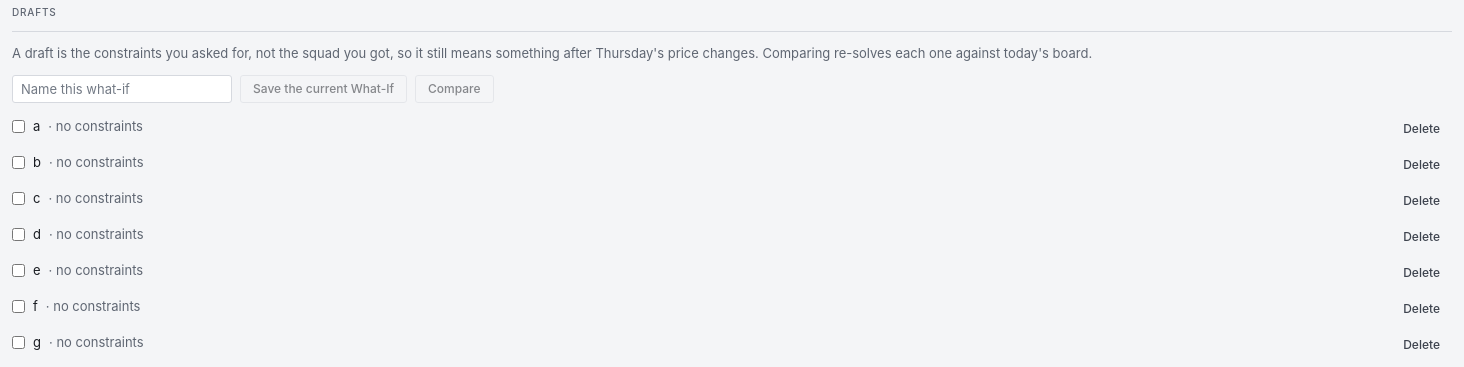
Scenario: DraftsTab › caps a comparison at six drafts
The width and height of the screenshot is (1464, 367).
Check: the text "a" is shown, box [33, 117, 40, 136]
What coordinates should you click on to do the following:
click the checkbox named "compare a"
I would click on:
 (18, 126)
Its box is [12, 120, 25, 133].
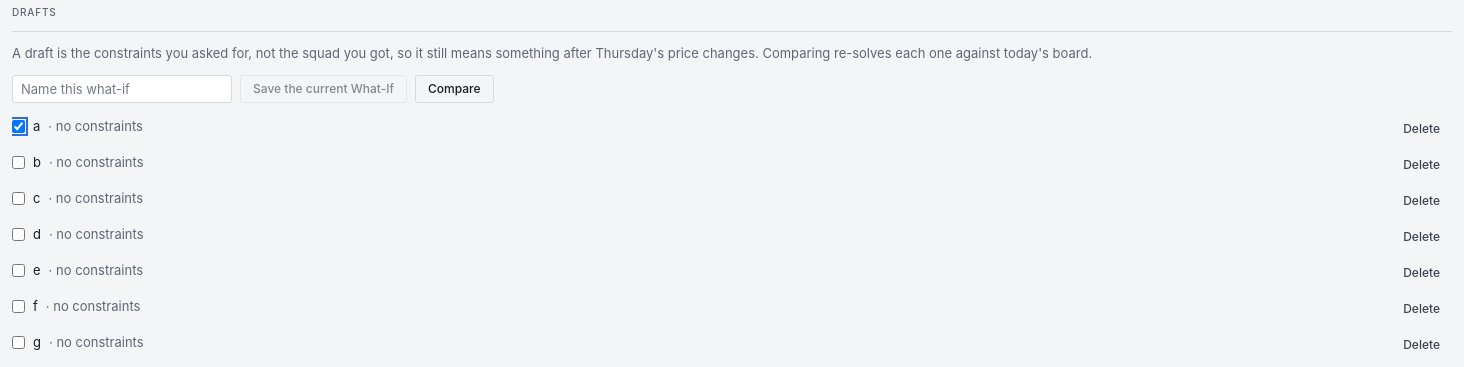
What coordinates should you click on to do the following:
click the checkbox labelled "b · no constraints"
I would click on:
 (18, 162)
Its box is [12, 156, 25, 169].
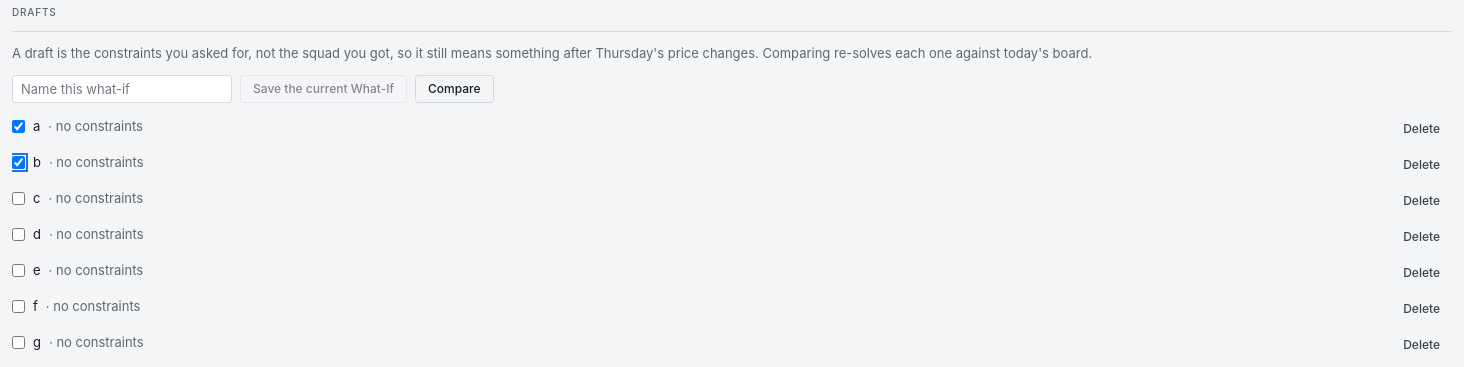
What coordinates should you click on to do the following:
click the checkbox named "compare c"
I would click on:
 (18, 198)
Its box is [12, 192, 25, 205].
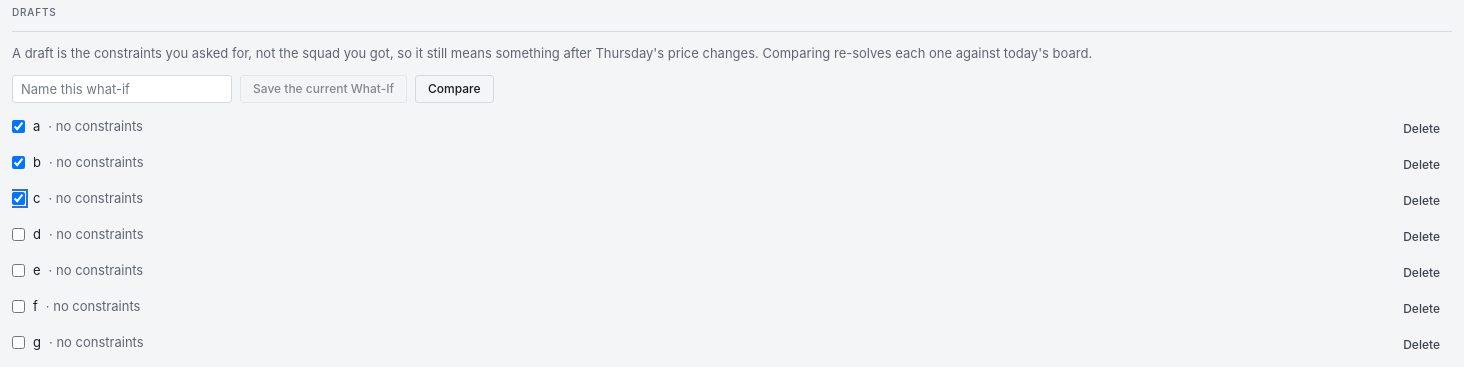
What coordinates should you click on to do the following:
click the checkbox labelled "d · no constraints"
I would click on:
 (18, 234)
Its box is [12, 228, 25, 241].
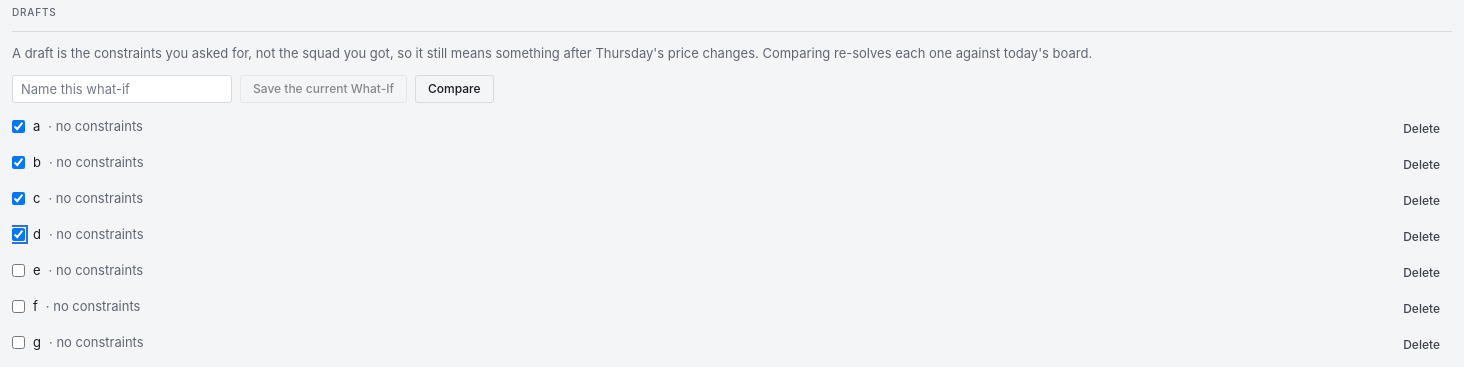
What coordinates should you click on to do the following:
click the checkbox named "compare e"
I would click on:
 (18, 270)
Its box is [12, 264, 25, 277].
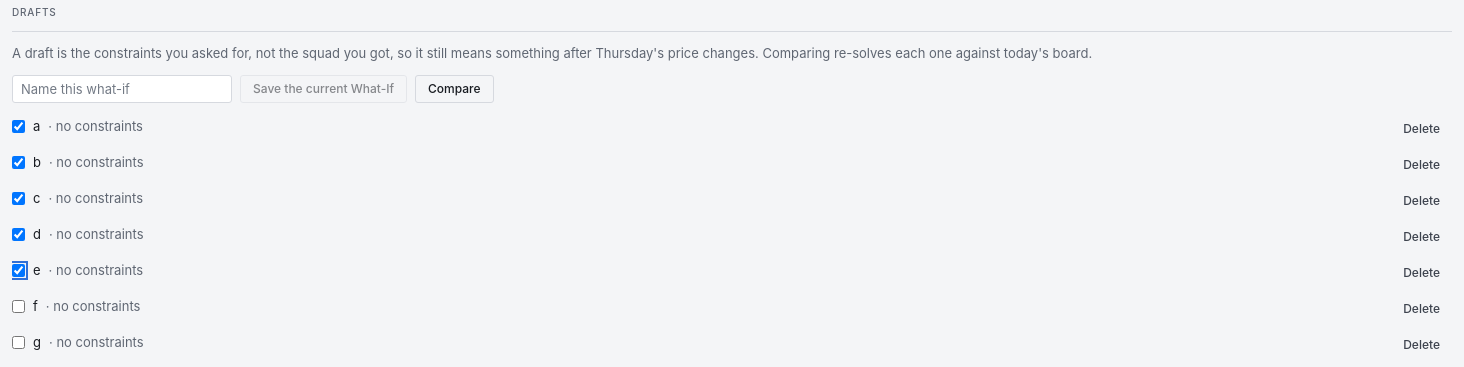
What coordinates should you click on to do the following:
click the checkbox named "compare f"
I would click on:
 (18, 306)
Its box is [12, 300, 25, 313].
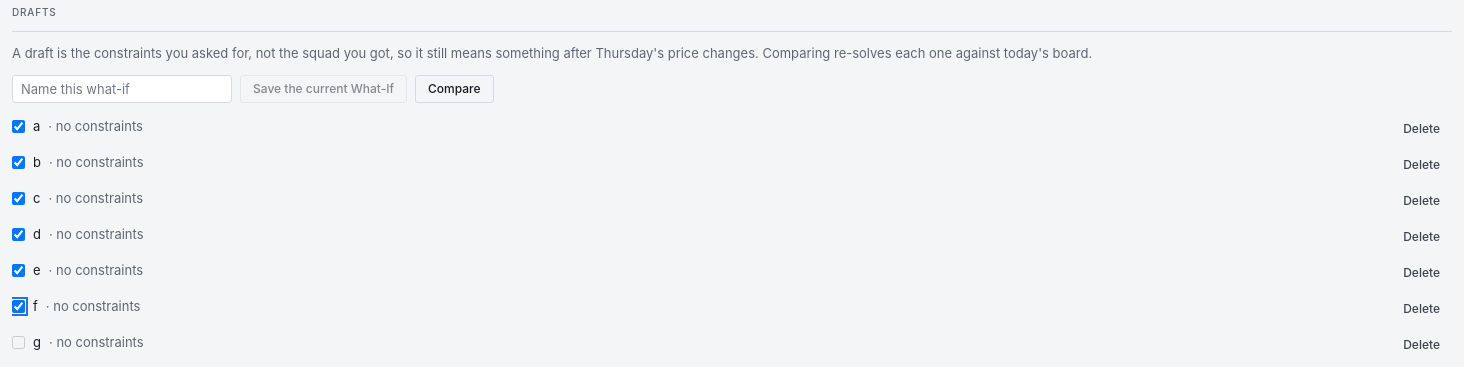
Check: the checkbox named "compare a" is enabled, box [12, 120, 25, 133]
Check: the checkbox named "compare g" is disabled, box [12, 336, 25, 349]
